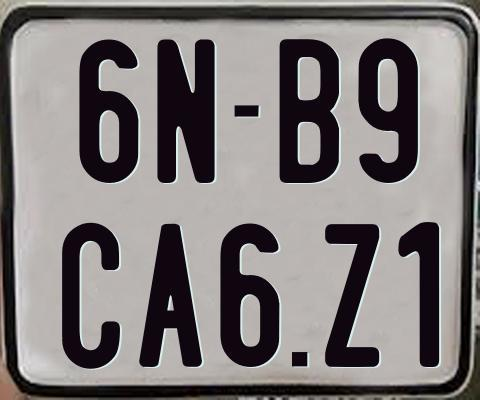1: (397, 222, 442, 370)
6: (76, 38, 138, 183), (218, 222, 278, 370)
9: (357, 38, 417, 189)
A: (137, 224, 202, 369)
B: (276, 37, 340, 187)
C: (62, 222, 124, 372)
N: (154, 39, 213, 187)
Z: (323, 224, 377, 368)
